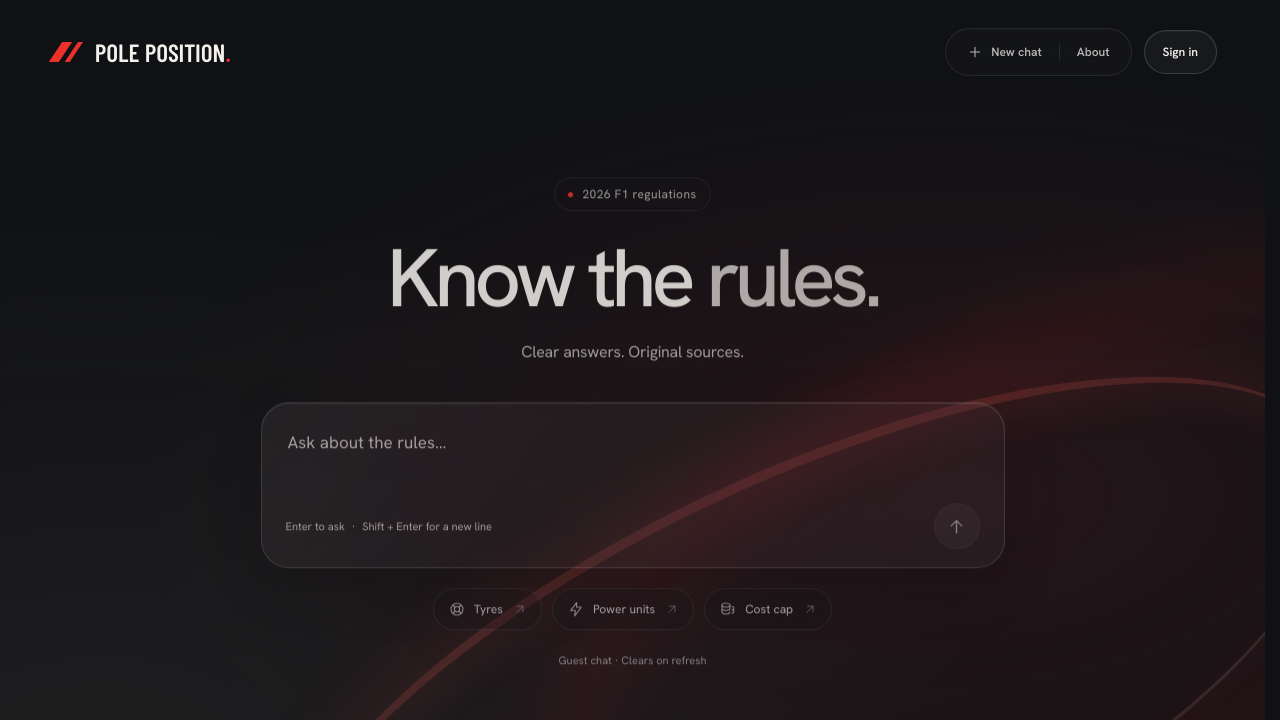
Scenario: welcome screen › new chat clears the draft and notice and focuses the composer
The width and height of the screenshot is (1280, 720).
Type "A question" into the text box at (632, 457), box [286,424,980,490]
Then press Enter
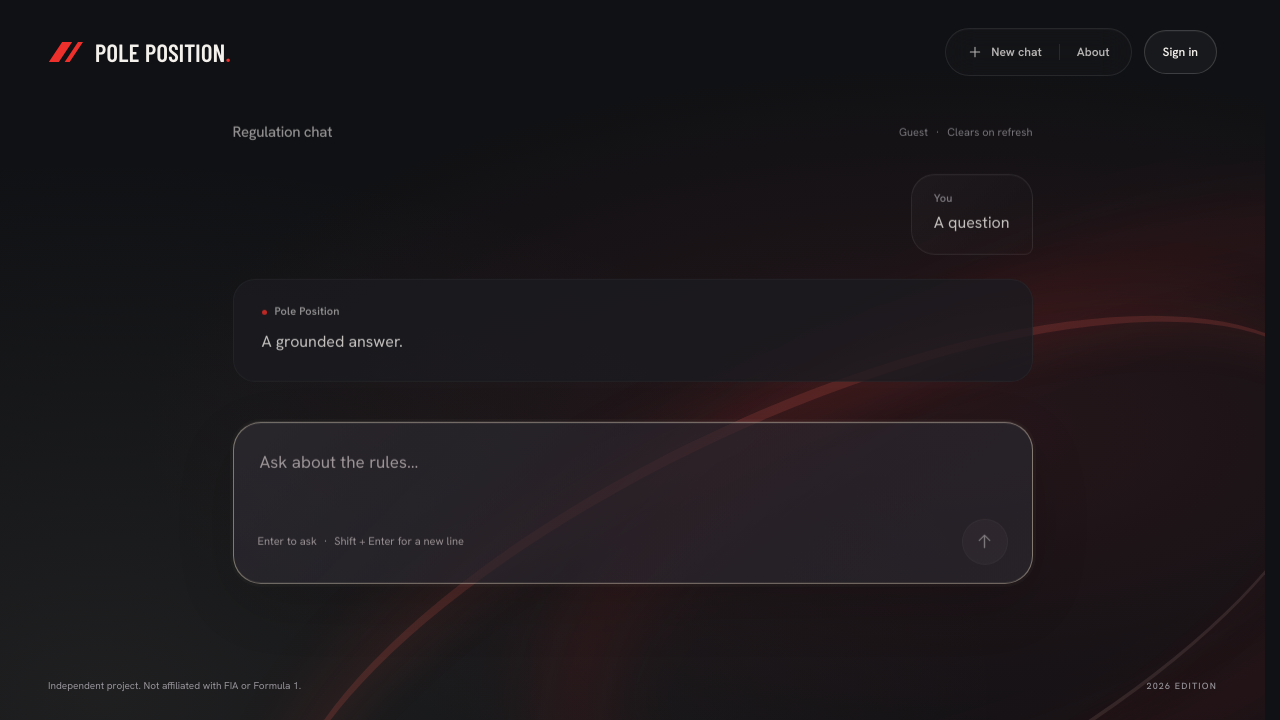
Click the button "New chat" at (1004, 52), box [950,33,1059,71]
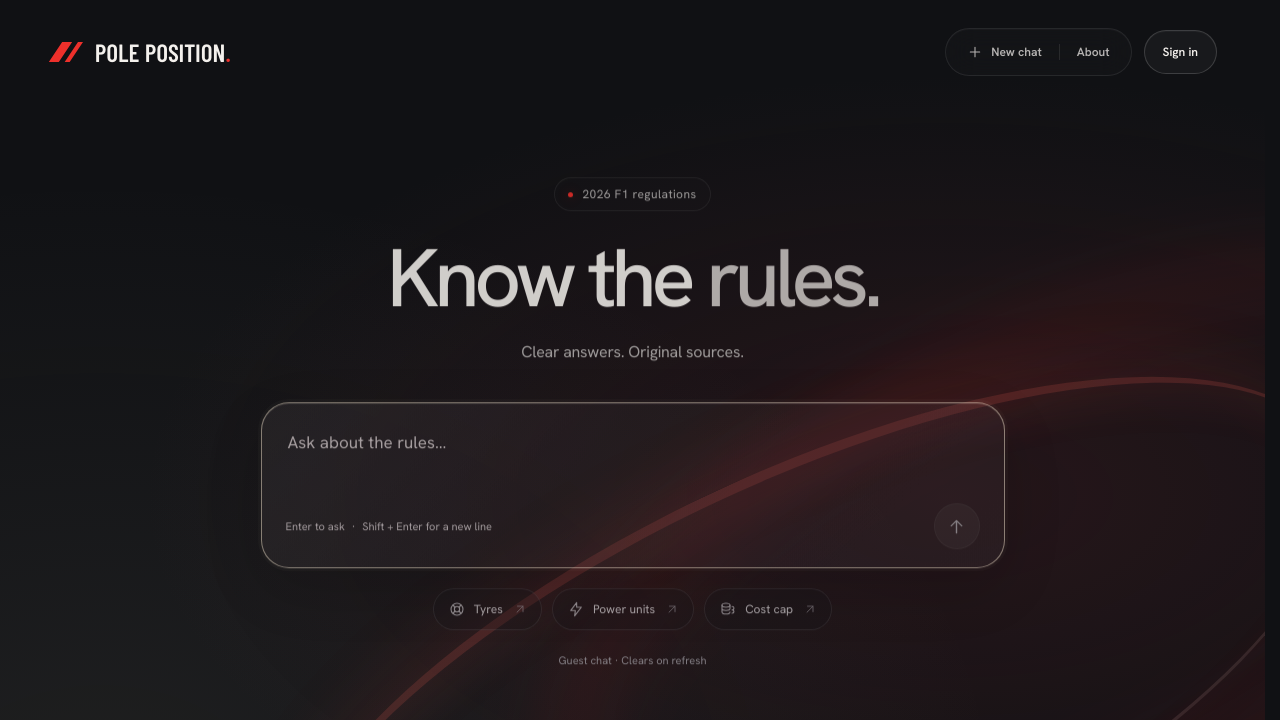
Check: the text box is empty, box [286,424,980,490]
Check: the heading "Know the rules." is shown, box [387,223,878,330]
